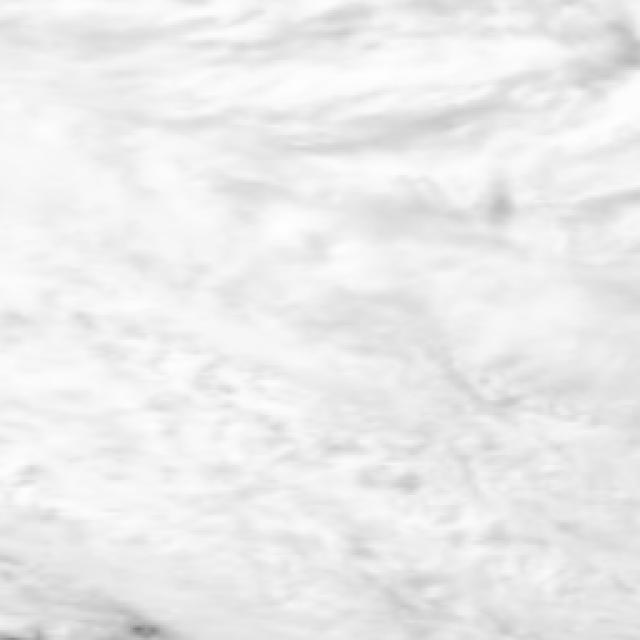CB: (0, 392, 258, 640), (252, 395, 468, 640), (417, 0, 640, 235), (198, 3, 432, 216), (0, 199, 245, 396), (237, 212, 457, 427), (0, 0, 200, 208), (450, 422, 640, 640), (442, 229, 640, 419)
